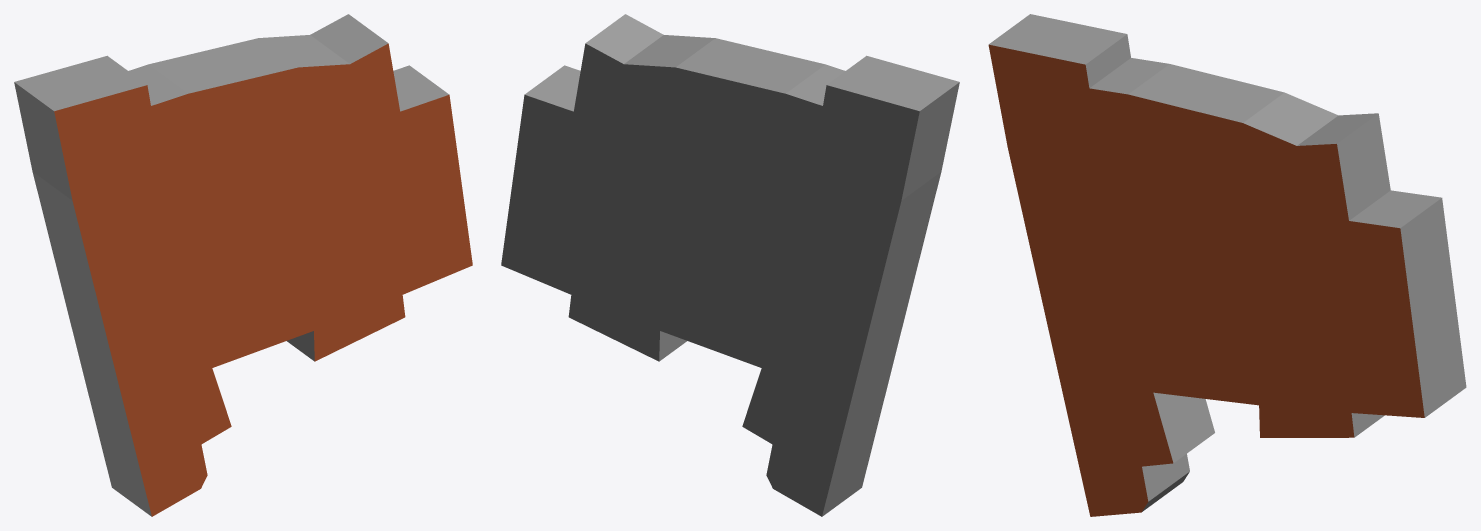
Rendered from construction_5617_assumed_A_Casa_h6m.obj.
3 renders of one model, left to right at view 1: azimuth 30°, elevation 25°; view 2: azimuth 150°, elevation 25°; view 3: azimuth 330°, elevation 25°, orthographic. The views are drawn at different scales.
Parts seen in each view (by area): view 1: construction_5617_assumed_A_Casa; view 2: construction_5617_assumed_A_Casa; view 3: construction_5617_assumed_A_Casa.
Part boxes in pixels (x1,y1,x2,y2): construction_5617_assumed_A_Casa: (14, 14, 472, 516); construction_5617_assumed_A_Casa: (501, 14, 959, 516); construction_5617_assumed_A_Casa: (988, 14, 1466, 516).
Bounding box in the file's own units: 36.19 × 35.76 × 6.
